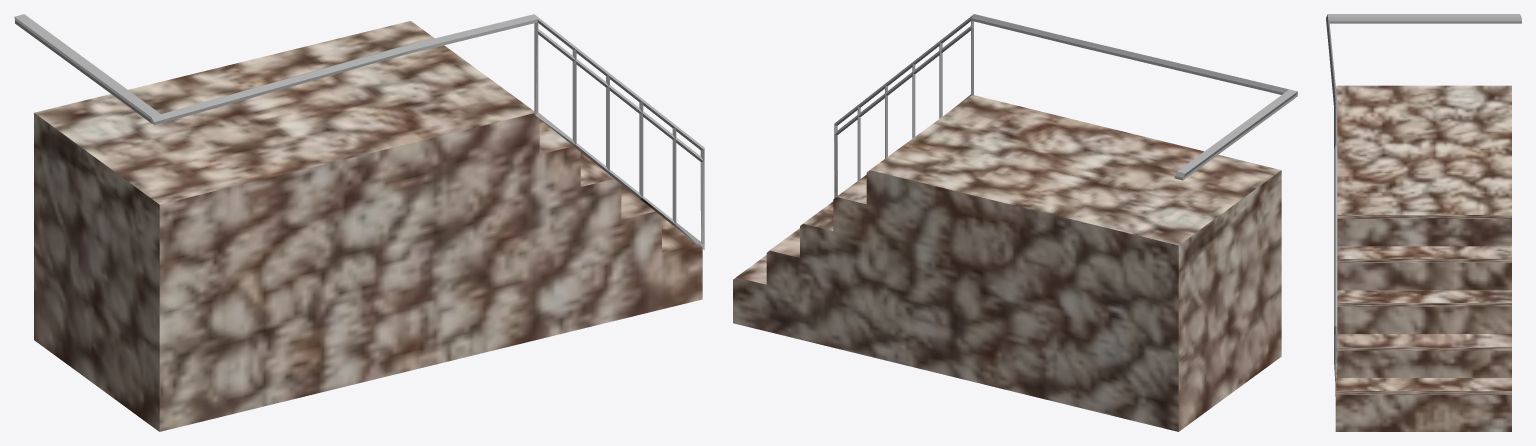
The model's file is stairs.fbx.
3 views of the same model, side by side, from view 1: azimuth 30°, elevation 25°; view 2: azimuth 150°, elevation 25°; view 3: azimuth 270°, elevation 25° (orthographic). The views are drawn at different scales.
Visible parts, largest first — view 1: Cube; view 2: Cube; view 3: Cube.
Part boxes in pixels (<box>): Cube: <box>14,14,704,431</box>; Cube: <box>733,14,1297,431</box>; Cube: <box>1326,14,1521,431</box>.
Size of the model in its own units: 515 by 287 by 222.
Materials: 2 (1 with a texture image).
